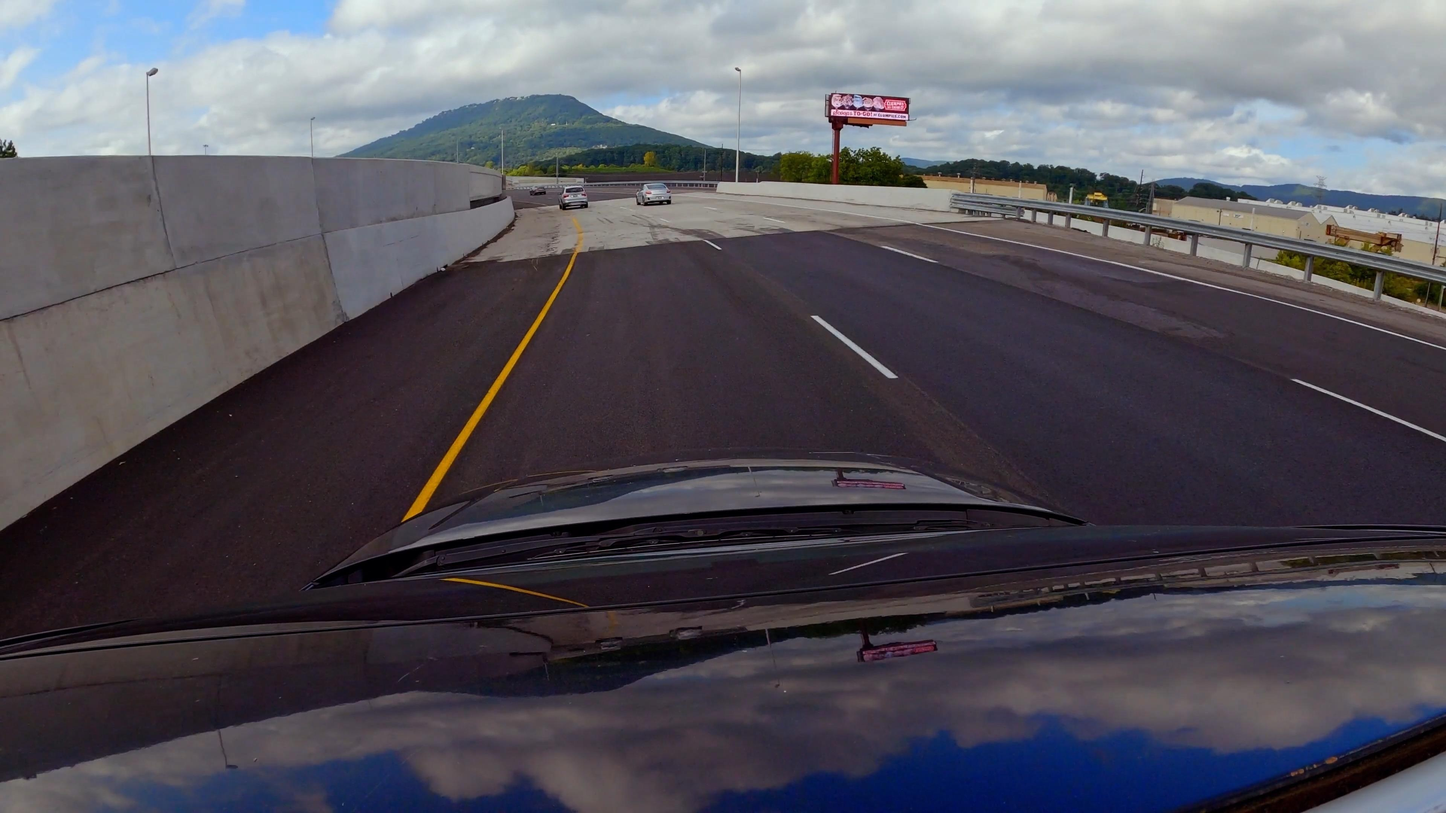dry: (0, 190, 1446, 641)
